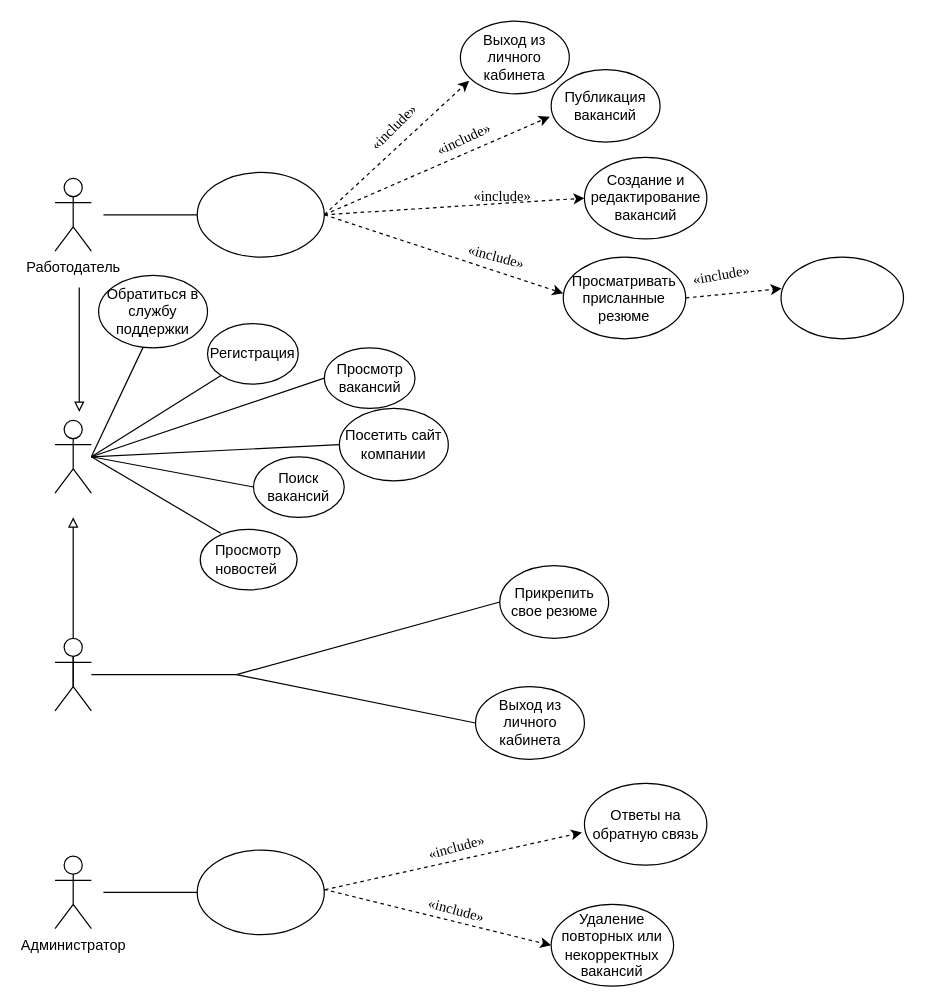
Image size: 926x1008. Some labels were removed from this diagram. The shapes that lost their labels are listed below. From the top down, each one's centre as x and y in pixels, then its label:
At [260,214]: "Работа в личном кабинете".
At [842,297]: "Отвергать/ одобрять присланные отклики".
At [72,456]: "Гость".
At [72,674]: "Работник".
At [260,892]: "Работа в админ панели".
